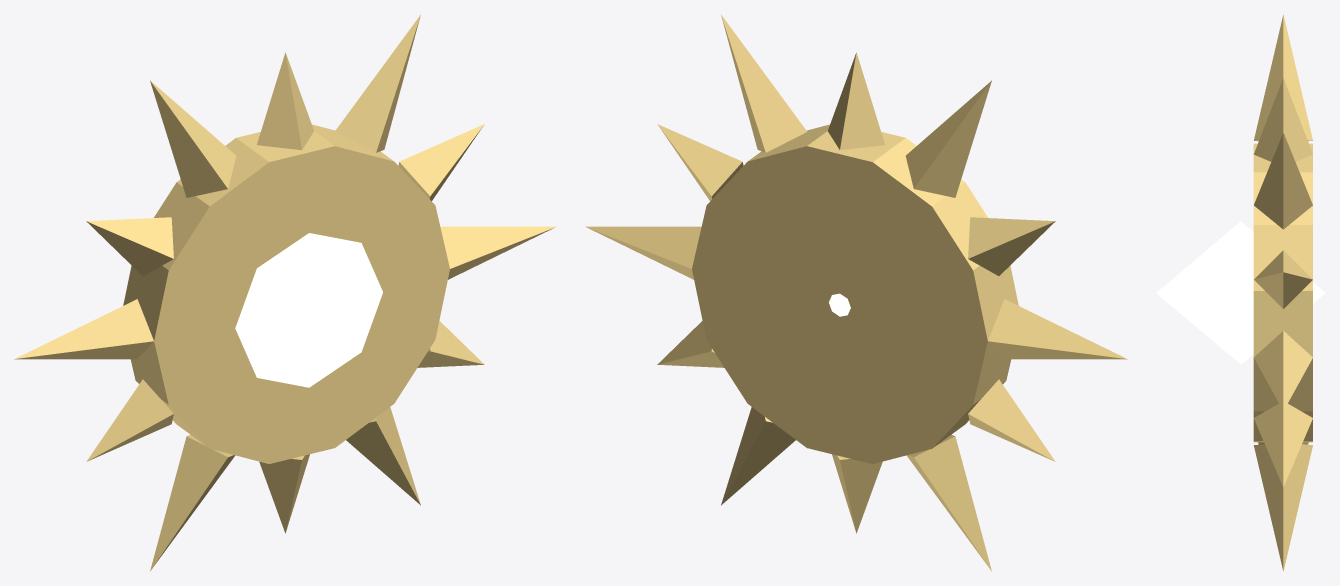
The model's file is gem_relic.glb.
The picture shows the model from 3 angles, left to right: view 1: azimuth 30°, elevation 25°; view 2: azimuth 150°, elevation 25°; view 3: azimuth 270°, elevation 25°; orthographic projection. The views are drawn at different scales.
Size of the model in its own units: 1.32 by 1.14 by 0.4.
